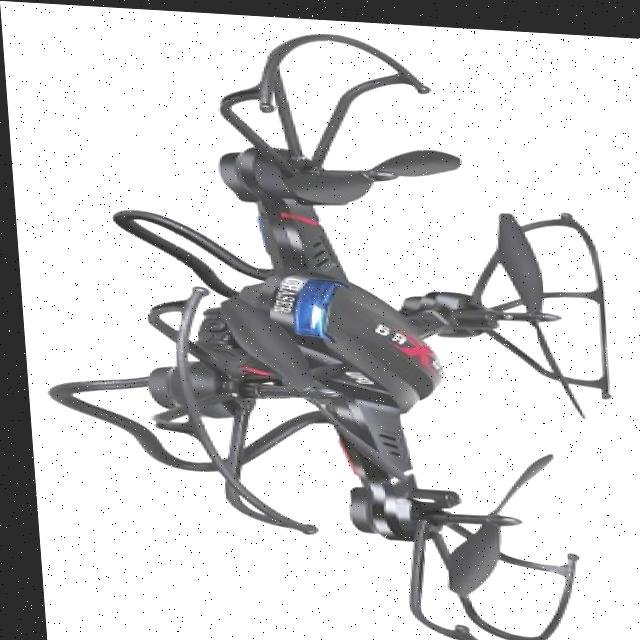drone: (65, 36, 640, 640)
